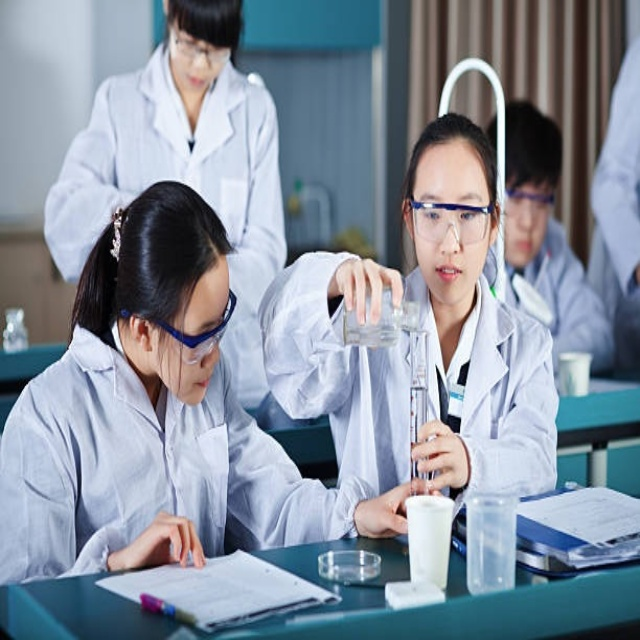Gafas: (123, 289, 237, 364), (408, 200, 495, 246), (171, 25, 231, 68), (504, 187, 556, 210)
Sin_guantes: (109, 505, 208, 574), (355, 478, 433, 539), (406, 424, 469, 496)
Sin_mascara: (181, 367, 220, 409), (429, 256, 465, 295), (510, 223, 539, 265), (180, 66, 212, 97)
